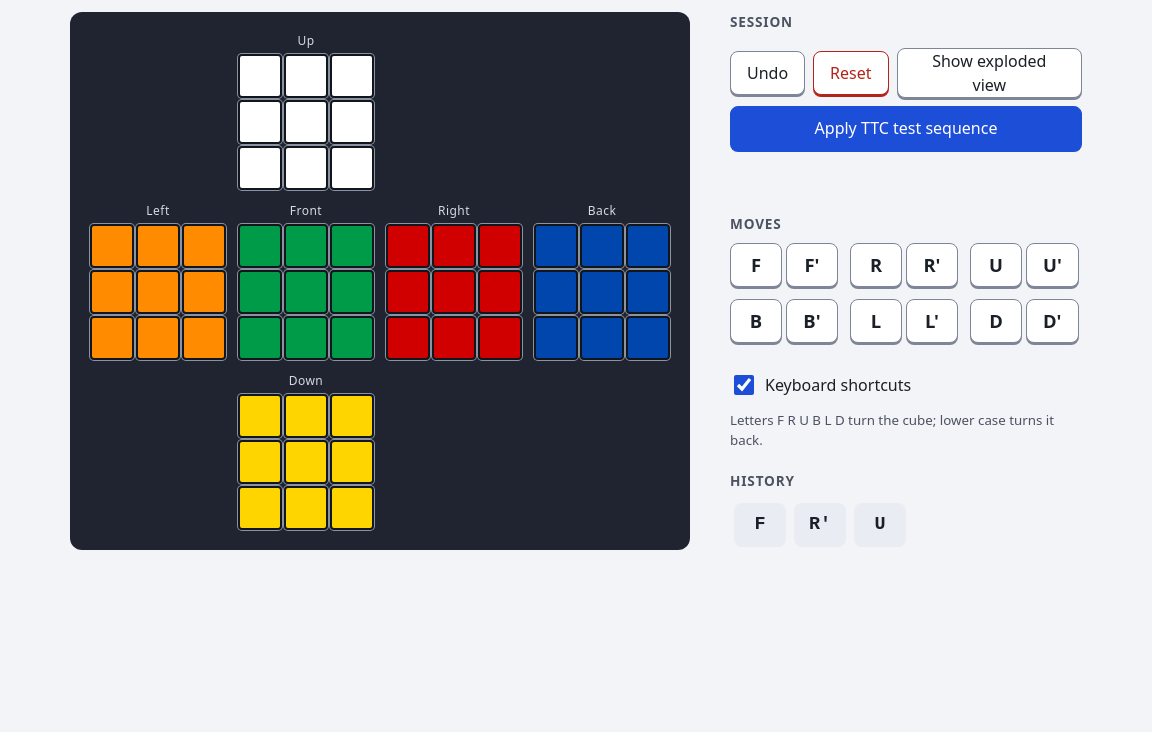
Test case: CubePage › history, undo and reset › Undo failures › shows the network message and keeps the last good state
The image size is (1152, 732).
Click the button "Undo" at (768, 73), box [730, 51, 805, 95]
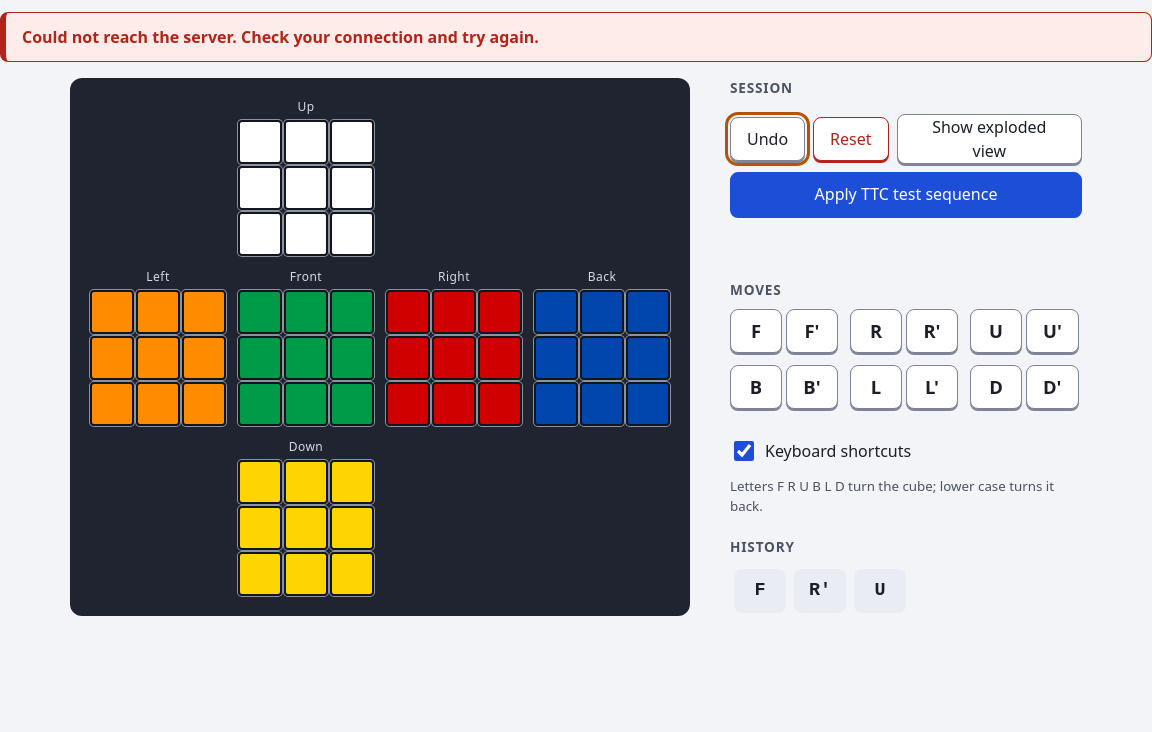
Expected: the message "Could not reach the server. Check your connection and try again." is shown, [0, 12, 1151, 62]
